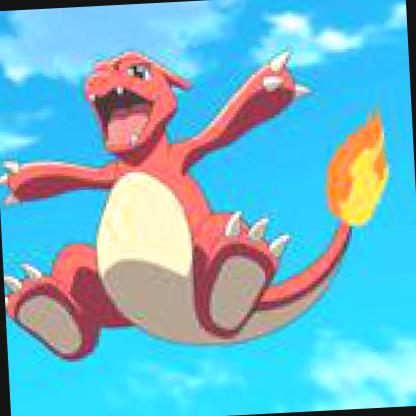Glutexo: (0, 42, 415, 415)
